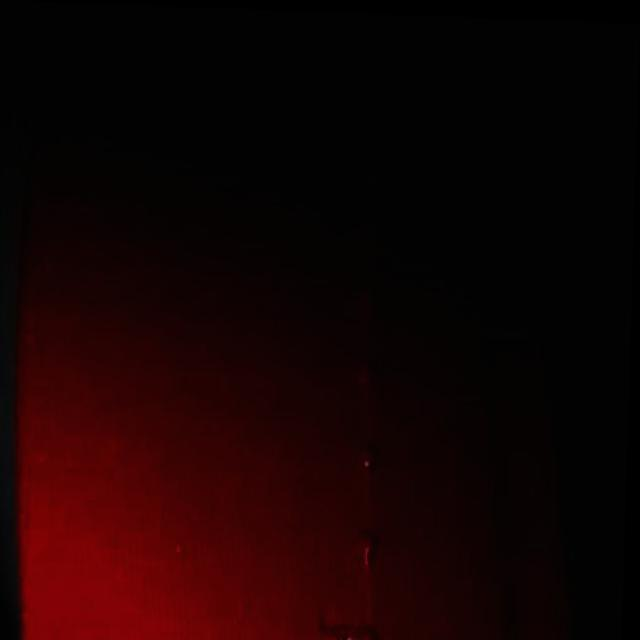zits: (322, 614, 383, 640), (350, 529, 388, 566), (352, 350, 383, 392), (354, 212, 384, 250), (354, 436, 386, 471), (353, 275, 380, 308), (362, 162, 388, 192), (364, 121, 387, 145)
